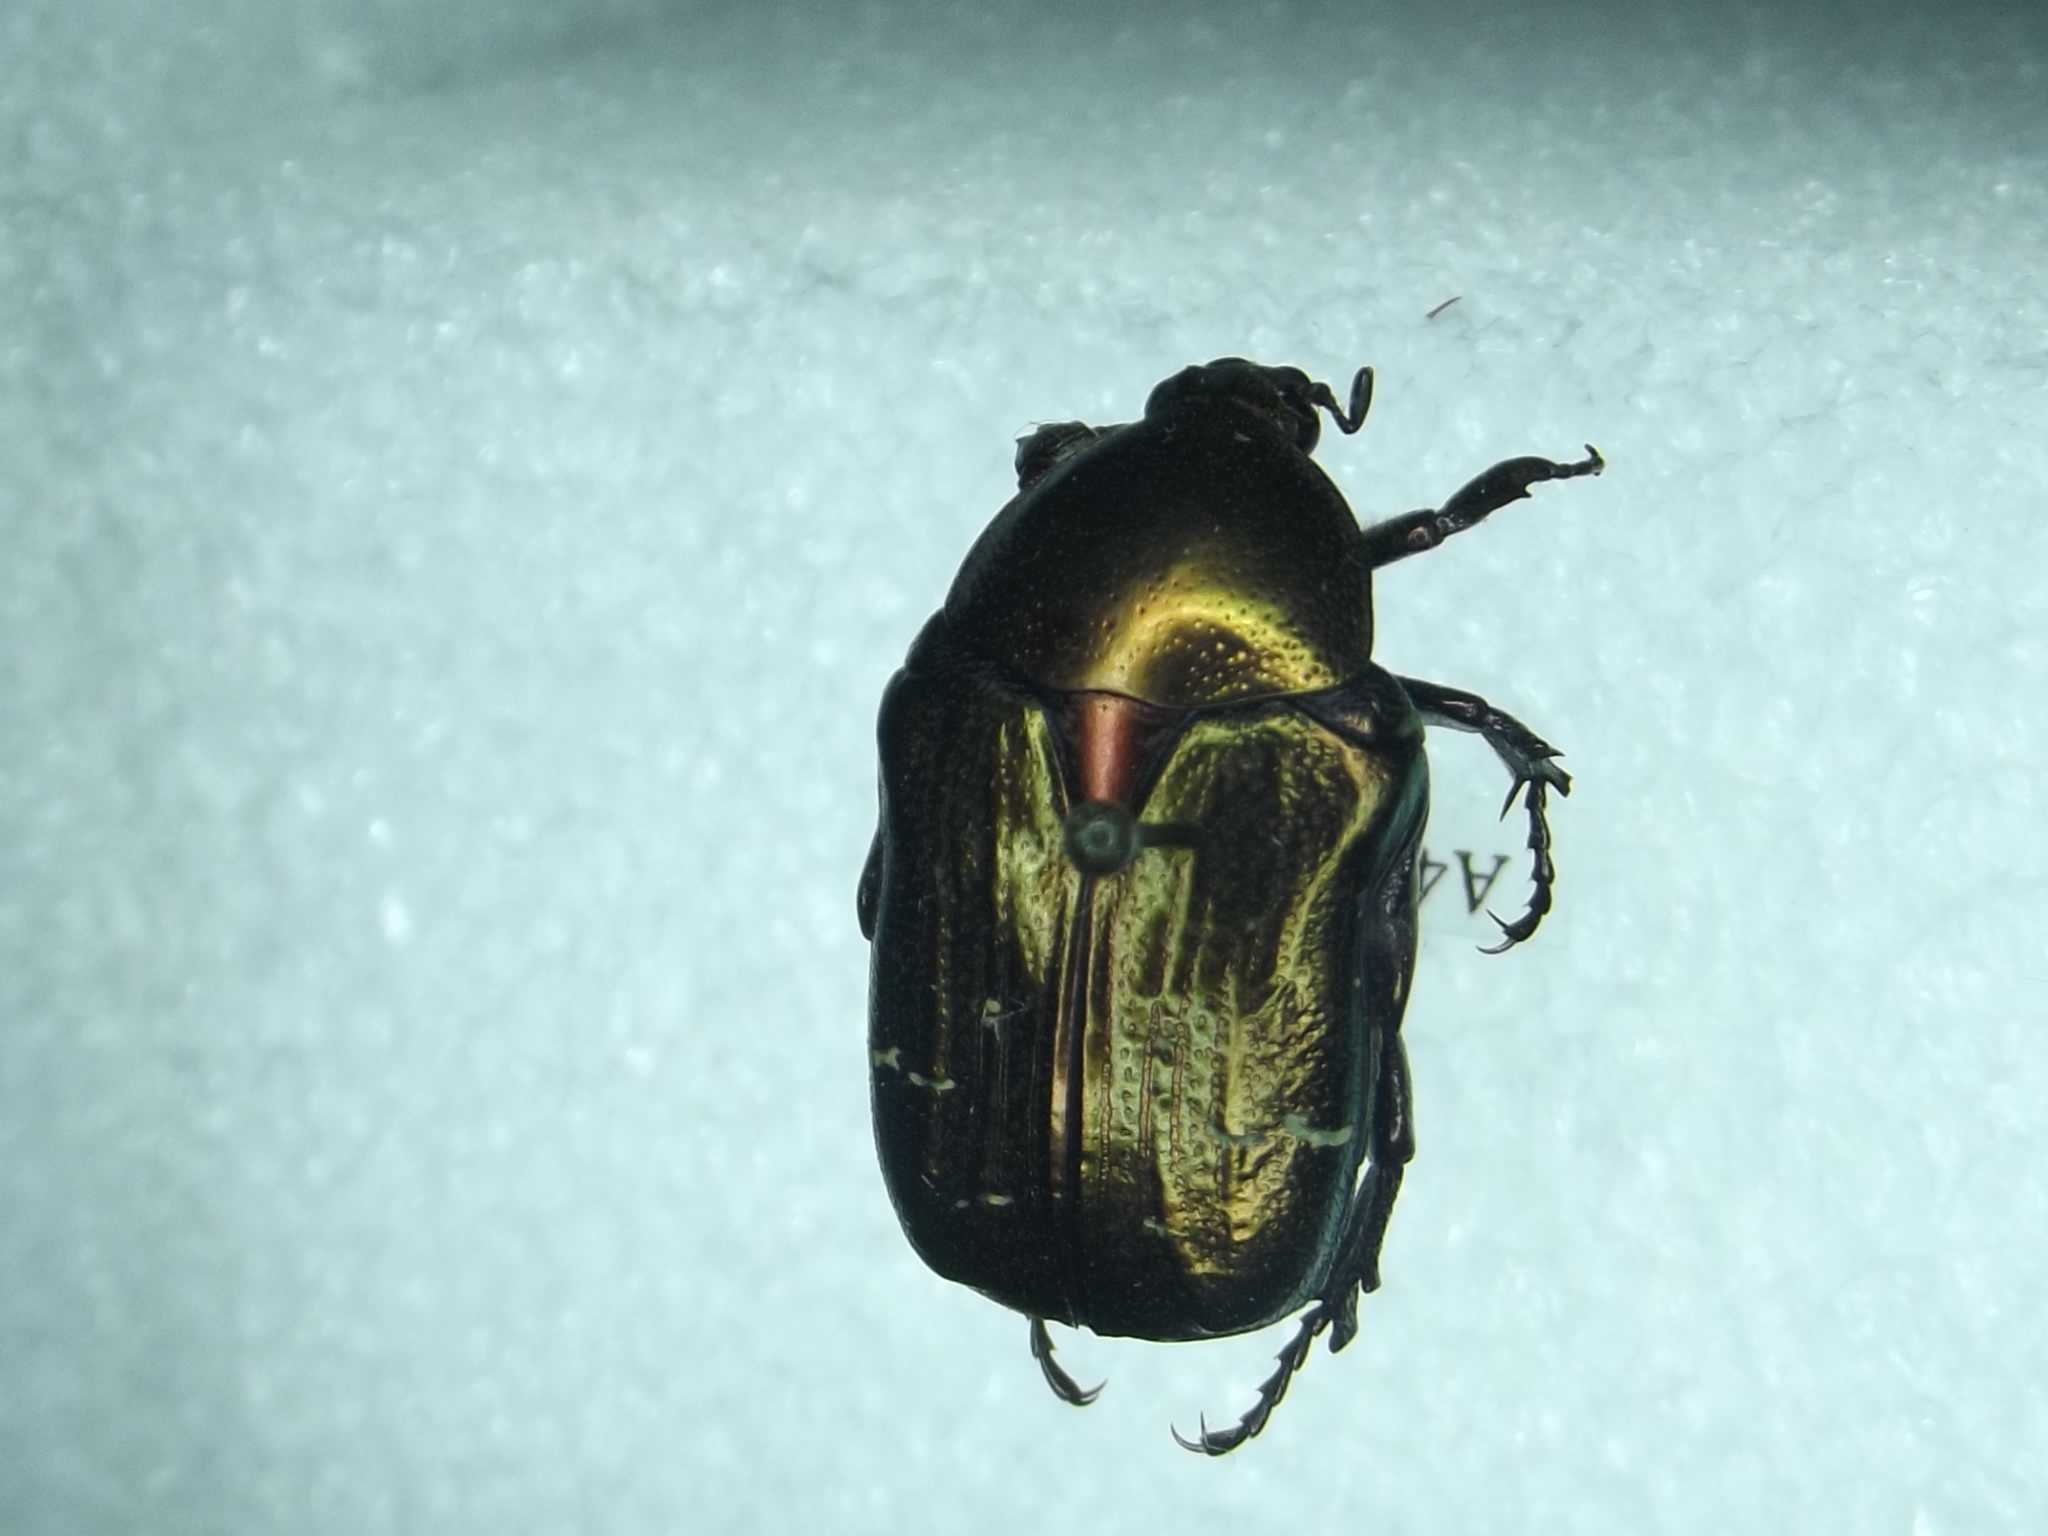Cetonia_kemali: (835, 339, 1605, 1468)
